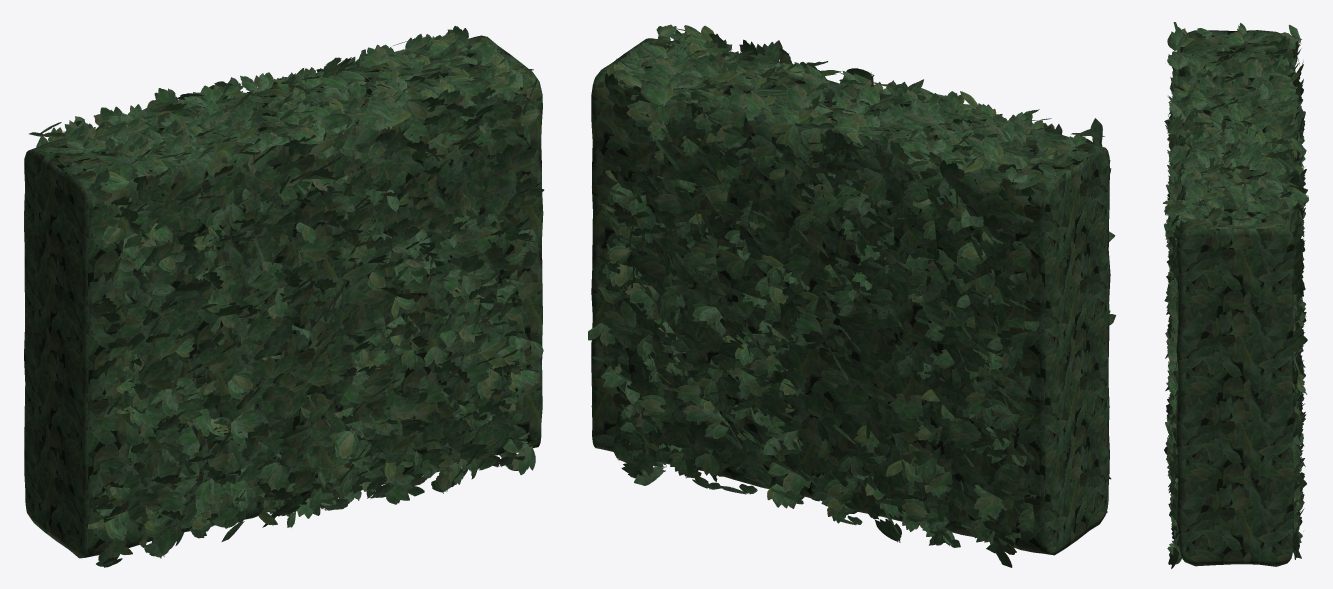
File: seto_laurel_jardin.glb
3 renders of one model, left to right at view 1: azimuth 30°, elevation 25°; view 2: azimuth 150°, elevation 25°; view 3: azimuth 270°, elevation 25°, orthographic. The views are drawn at different scales.
Parts seen in each view (by area): view 1: seto_laurel_jardin; view 2: seto_laurel_jardin; view 3: seto_laurel_jardin.
Part boxes in pixels (bbox=[...]): seto_laurel_jardin: bbox=[24, 26, 544, 567]; seto_laurel_jardin: bbox=[588, 24, 1115, 567]; seto_laurel_jardin: bbox=[1163, 22, 1308, 568].
Size of the model in its own units: 2 by 1.8 by 0.7.
2 materials, 2 textured.
